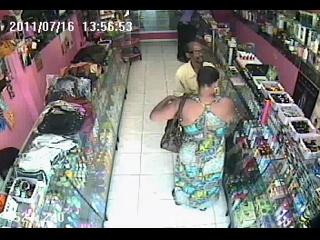Normal: (150, 65, 239, 215), (173, 40, 205, 98), (160, 96, 187, 154), (176, 11, 202, 64), (121, 46, 142, 65)
